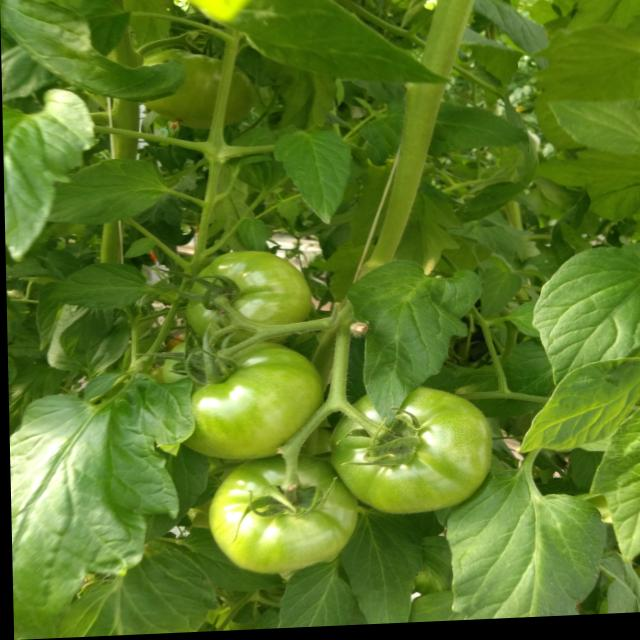yesil: (111, 215, 463, 570)
